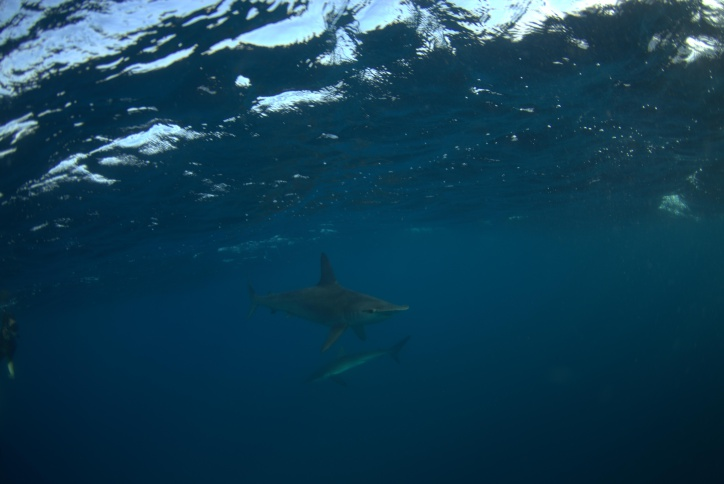Hammer: (218, 237, 420, 363)
